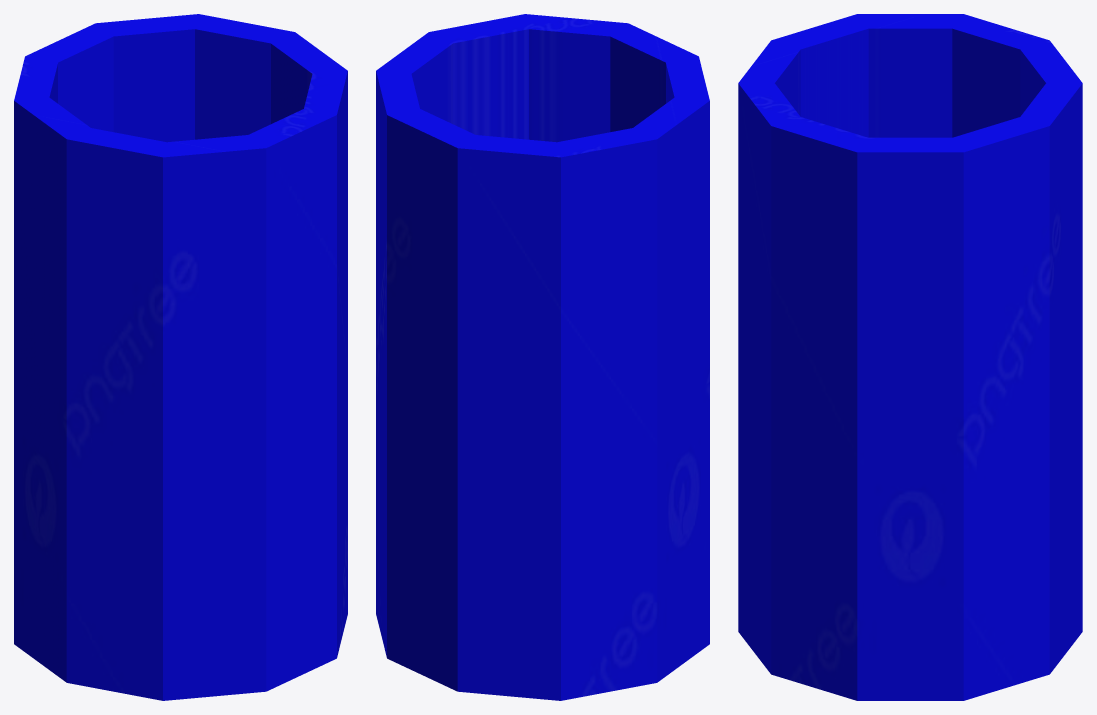
File: veladora-azul.obj
3 views of the same model, side by side, from view 1: azimuth 30°, elevation 25°; view 2: azimuth 150°, elevation 25°; view 3: azimuth 270°, elevation 25° (orthographic).
Parts seen in each view (by area): view 1: Cylinder.008; view 2: Cylinder.008; view 3: Cylinder.008.
Part boxes in pixels (x1=…): Cylinder.008: x1=14, y1=14, x2=347, y2=700; Cylinder.008: x1=376, y1=14, x2=709, y2=700; Cylinder.008: x1=738, y1=14, x2=1082, y2=700.
Bounding box in the file's own units: 0.0356 × 0.0657 × 0.0374.
1 material, 1 textured.
